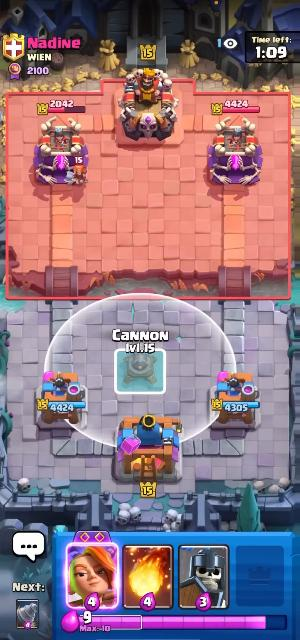enemy_melee: (65, 155, 91, 185)
